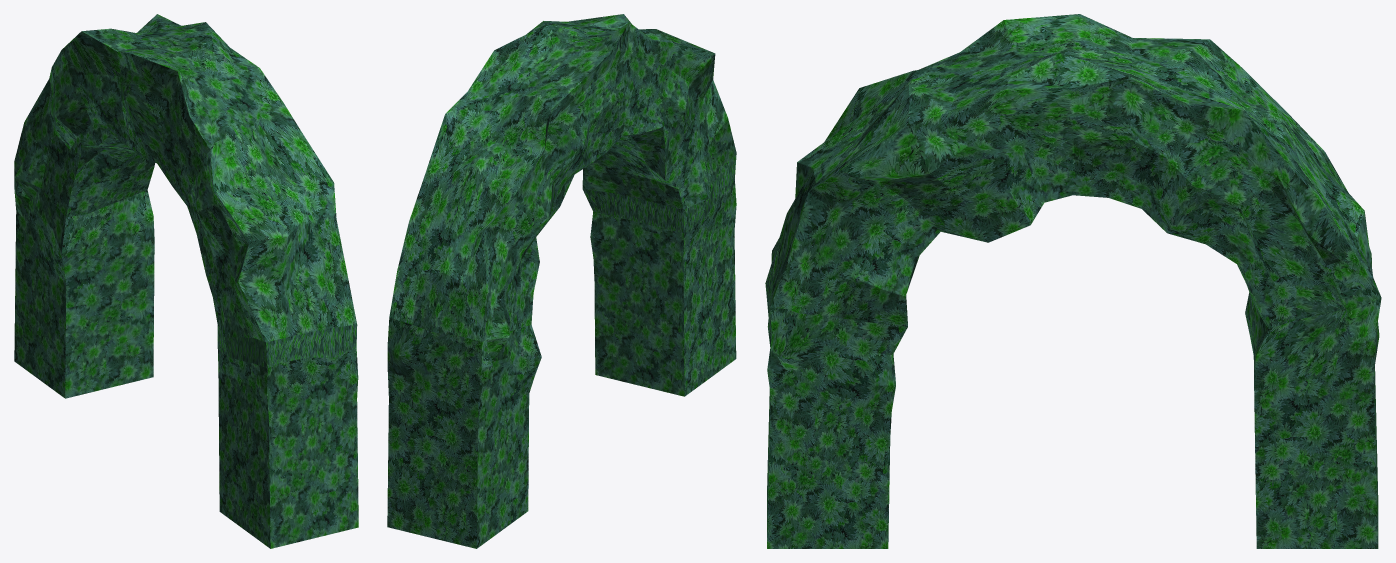
The model's file is kaari_pienempi.fbx.
3 views of the same model, side by side, from view 1: azimuth 30°, elevation 25°; view 2: azimuth 150°, elevation 25°; view 3: azimuth 270°, elevation 25° (orthographic). The views are drawn at different scales.
Visible parts, largest first — view 1: Cube; view 2: Cube; view 3: Cube.
Part boxes in pixels (box(x1,y1,x2,y2)): Cube: box(14, 14, 358, 548); Cube: box(387, 14, 736, 548); Cube: box(765, 14, 1381, 548).
Size of the model in its own units: 287 by 876 by 1014.
